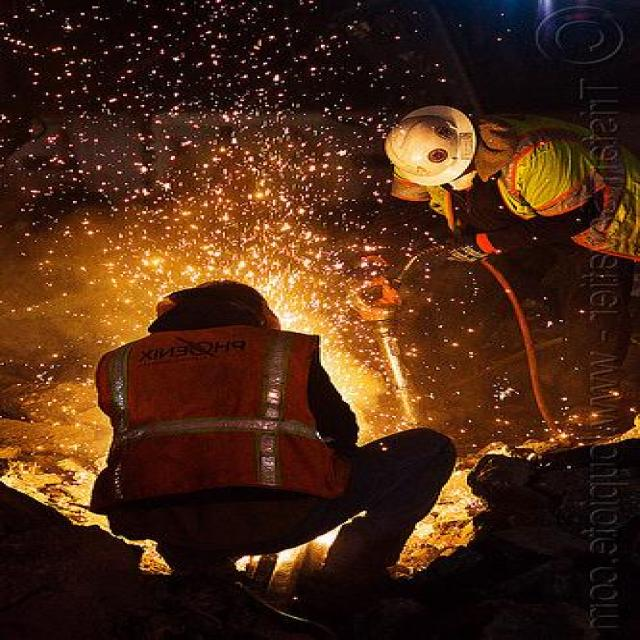Reflective-Jacket: (90, 331, 337, 501)
Safety-Helmet: (380, 101, 482, 190)
